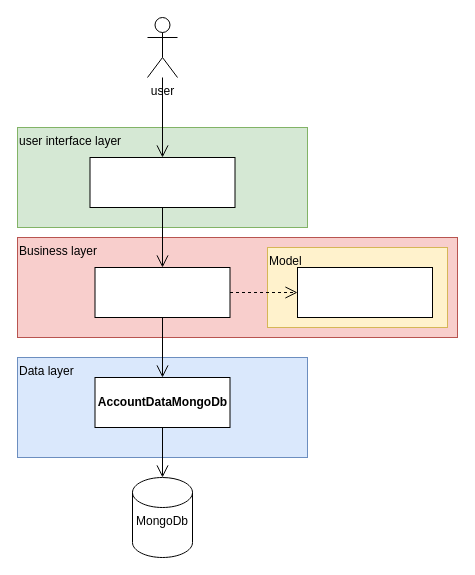
The diagram is 475 pixels wide and 575 high, and some of its shapes have lost their labels. Each missing label, with the centre of its shape:
"Account" goes at point 364,292.
"AccountManagerImpl" goes at point 162,292.
"AccountRestController" goes at point 162,182.
